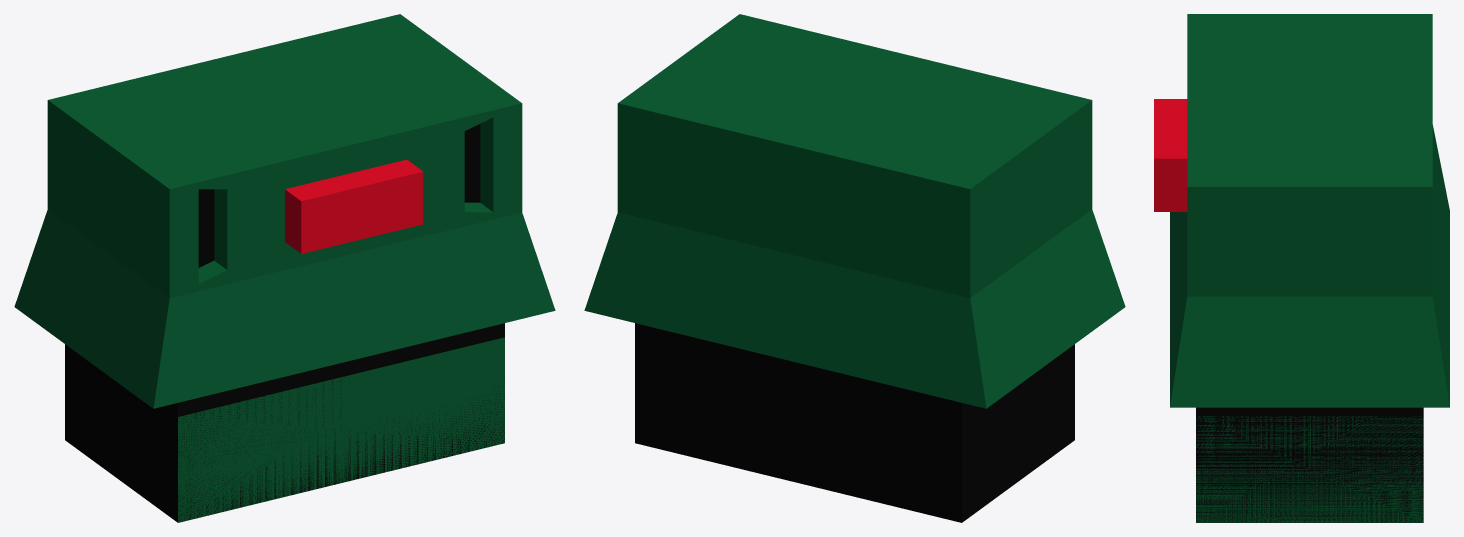
Rendered from dispen.fbx.
3 views of the same model, side by side, from view 1: azimuth 30°, elevation 25°; view 2: azimuth 150°, elevation 25°; view 3: azimuth 270°, elevation 25° (orthographic).
Visible parts, largest first — view 1: Cube; view 2: Cube; view 3: Cube.
Boxes of the visible parts, left/top/right/bottom form: Cube: left=14, top=14, right=555, bottom=522; Cube: left=584, top=14, right=1125, bottom=522; Cube: left=1154, top=14, right=1449, bottom=522.
Size of the model in its own units: 3.34 by 2.7 by 2.11.
